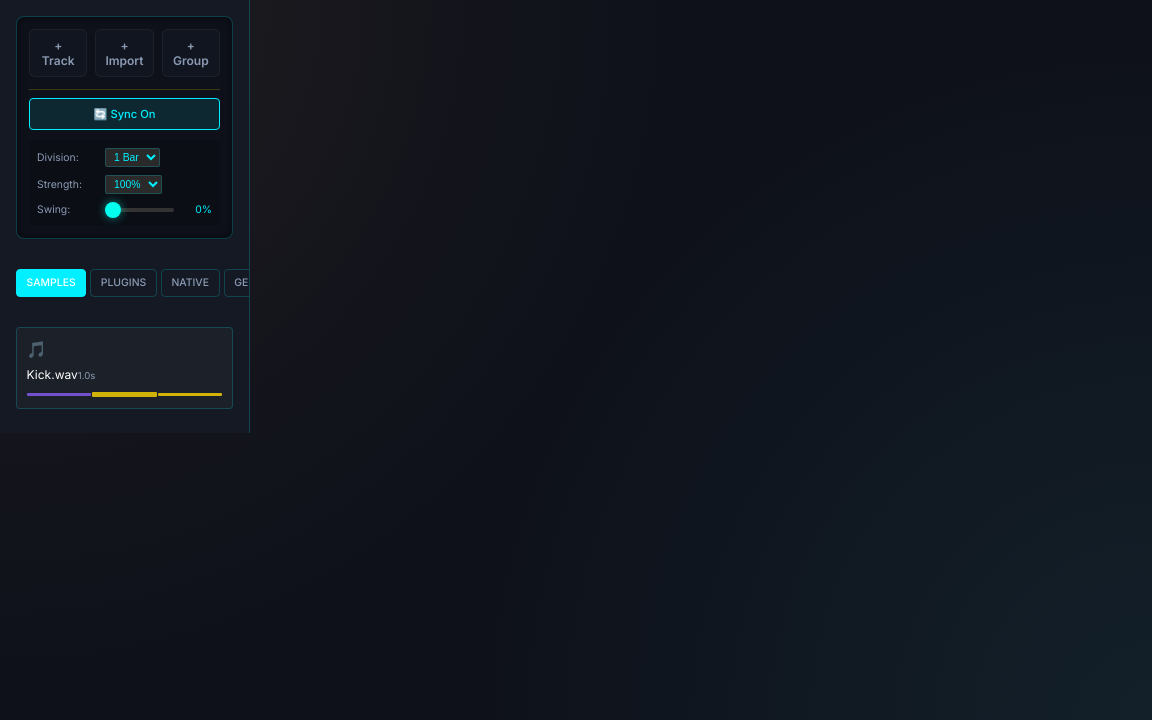
it: Library Component › switches tabs between samples and plugins
Expected: the text "Kick.wav" is shown, [27,367,78,382]
Step 1. Click the button "PLUGINS" → (124, 283), box [90,269,157,296]
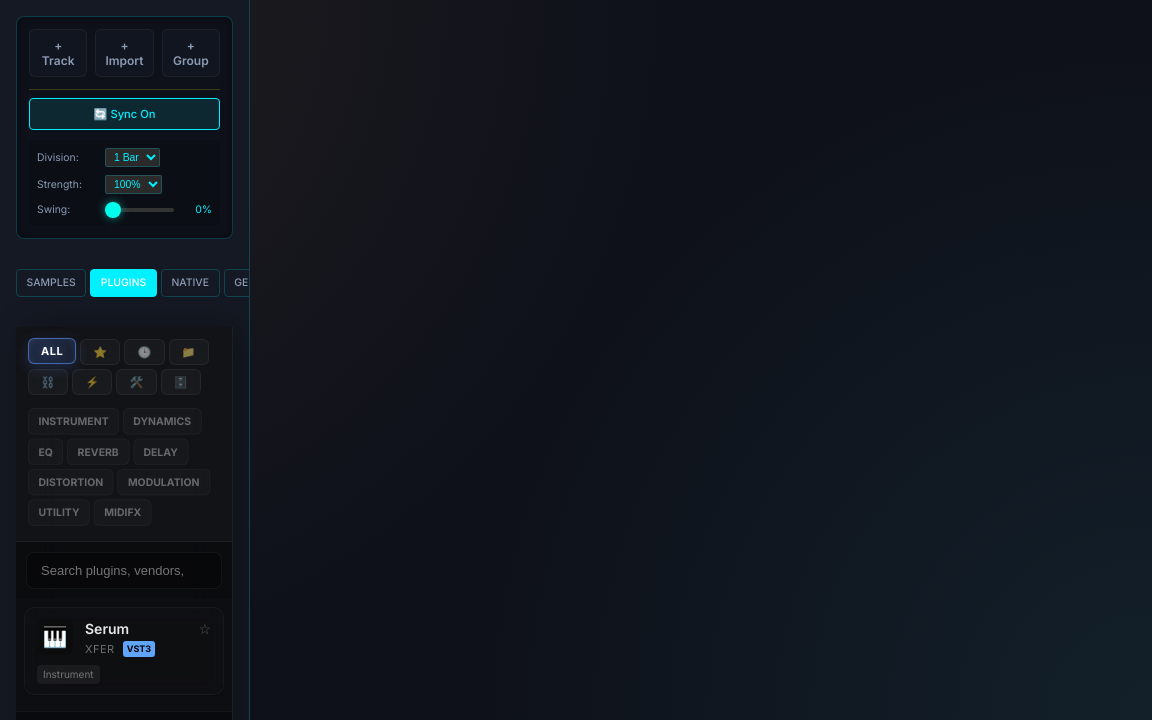
Expected: the text "Serum" is shown, [85,618,129,639]
Expected: the text "Kick.wav" is gone
